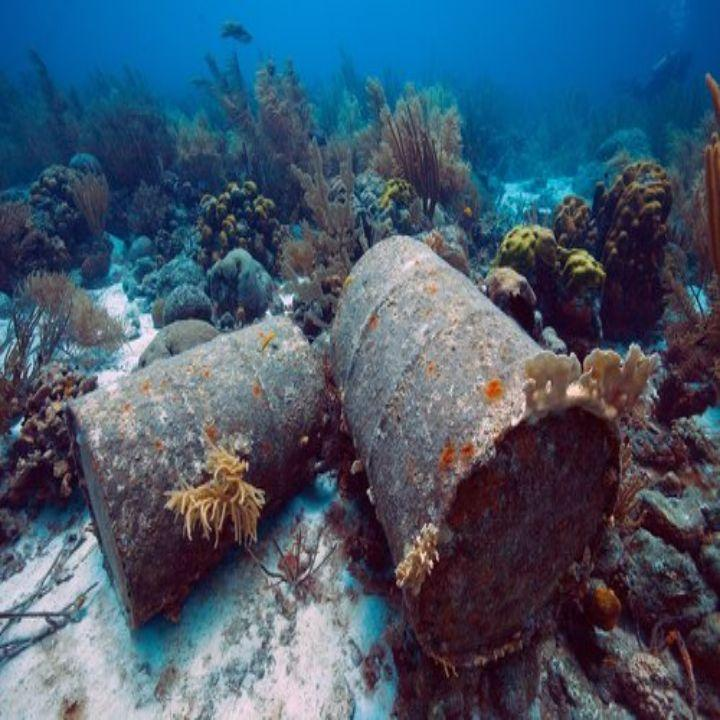Dead Coral: (33, 65, 688, 255)
